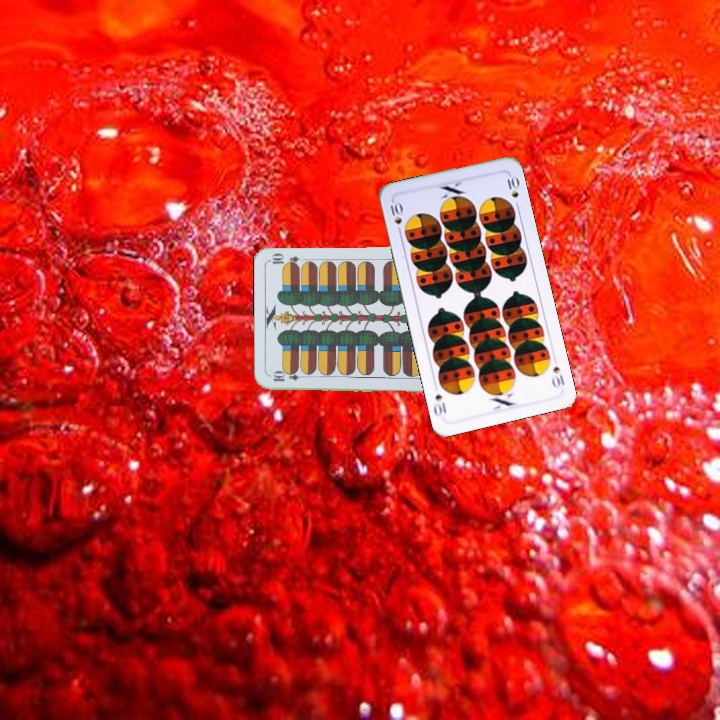E10: (269, 370, 309, 384)
S10: (386, 197, 405, 237), (548, 362, 567, 390)
